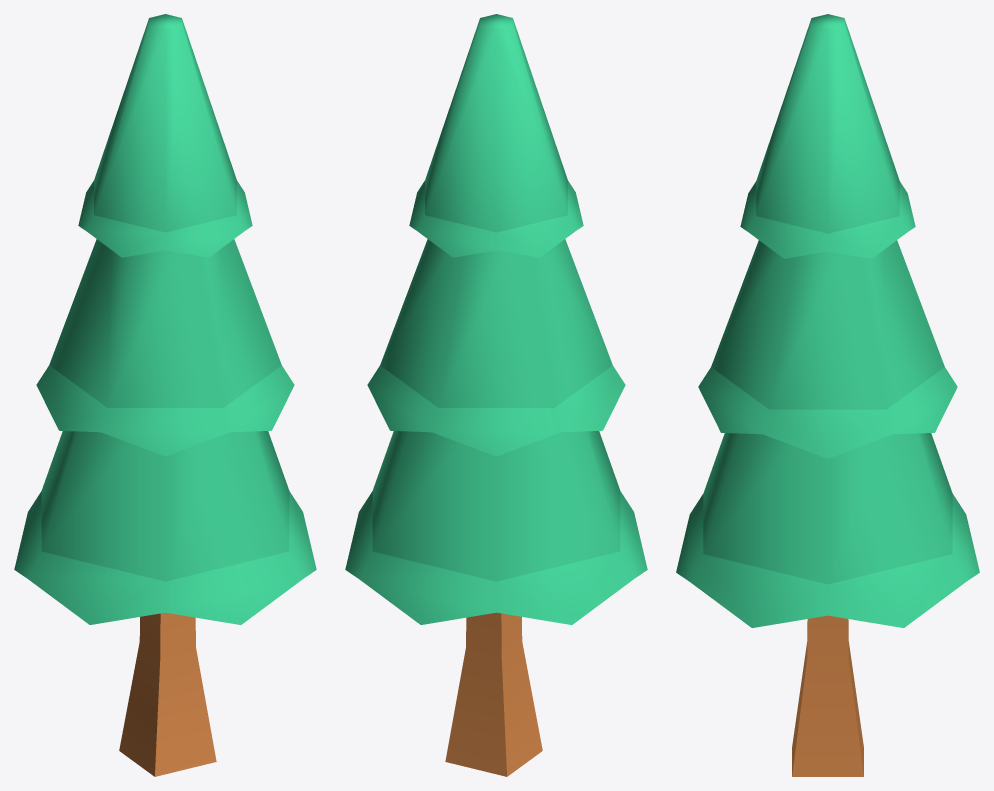
Rendered from tree.glb.
3 views of the same model, side by side, from view 1: azimuth 30°, elevation 25°; view 2: azimuth 150°, elevation 25°; view 3: azimuth 270°, elevation 25° (orthographic).
Visible parts, largest first — view 1: tree; view 2: tree; view 3: tree.
Boxes of the visible parts, <box> form: tree: <box>14,14,316,776</box>; tree: <box>345,14,647,776</box>; tree: <box>676,14,979,776</box>.
Bounding box in the file's own units: 0.5528 × 1.41 × 0.5263.
